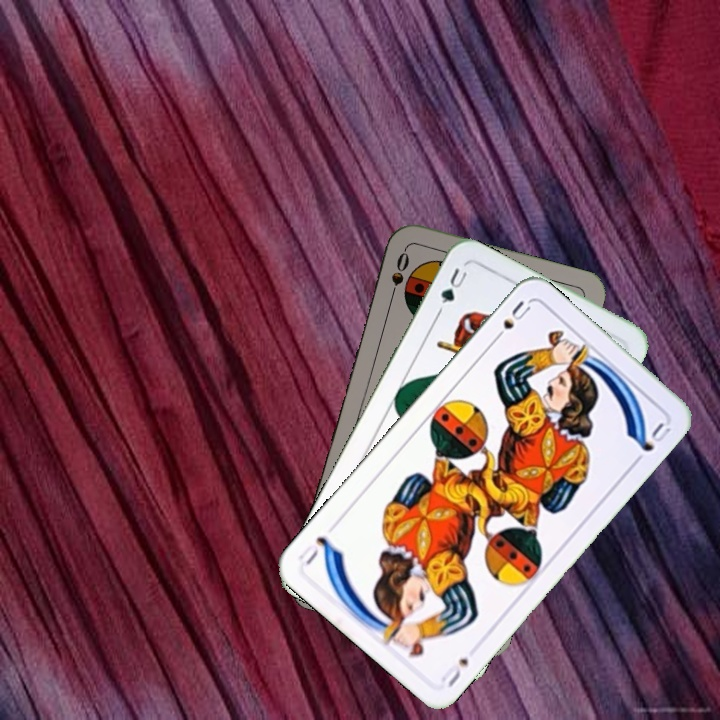GU: (433, 263, 470, 316)
SO: (385, 246, 412, 304)
SU: (488, 296, 534, 346), (436, 653, 471, 690)
